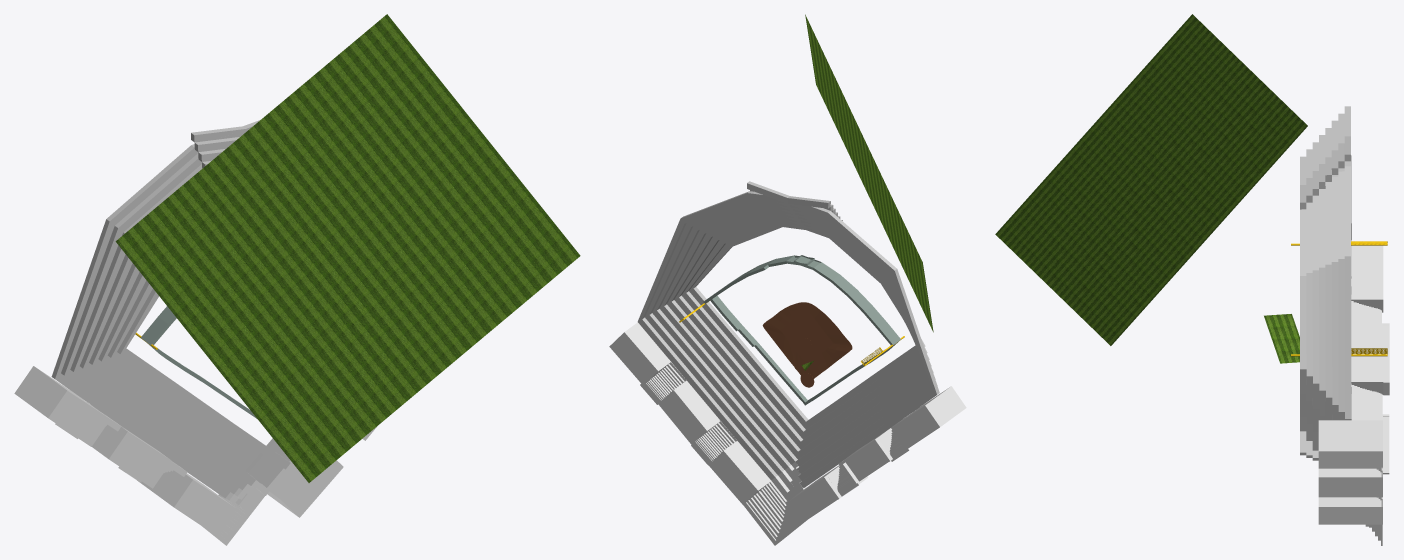
Rendered from stadium.fbx.
3 renders of one model, left to right at view 1: azimuth 30°, elevation 25°; view 2: azimuth 150°, elevation 25°; view 3: azimuth 270°, elevation 25°, orthographic. The views are drawn at different scales.
Visible parts, largest first — view 1: Grass, Stands, Cube, Cube.002, Cube.001, Cube.005, Cube.010, Walls; view 2: Stands, Grass, Plane.002, Walls, Cube.010, Cube, Cube.005, Cube.007, Cube.009, Cube.002, Cube.001, Cube.006 (+1 smaller); view 3: Grass, Stands, Cube.009, Cube.001, Cube, Cube.007, Cube.005, Cube.011, Cube.003, Cube.004.
Boxes of the visible parts, bbox=[...] form: Grass: bbox=[115, 14, 580, 482]; Stands: bbox=[51, 120, 290, 498]; Cube: bbox=[14, 366, 110, 446]; Cube.002: bbox=[141, 470, 236, 536]; Cube.001: bbox=[92, 407, 171, 488]; Cube.005: bbox=[267, 460, 343, 517]; Cube.010: bbox=[202, 480, 269, 545]; Walls: bbox=[141, 306, 257, 419]; Stands: bbox=[637, 181, 939, 487]; Grass: bbox=[805, 14, 933, 332]; Plane.002: bbox=[762, 302, 852, 378]; Walls: bbox=[703, 255, 900, 405]; Cube.010: bbox=[743, 462, 806, 545]; Cube: bbox=[891, 386, 966, 449]; Cube.005: bbox=[708, 441, 771, 504]; Cube.007: bbox=[658, 380, 719, 444]; Cube.009: bbox=[609, 322, 670, 385]; Cube.002: bbox=[792, 465, 867, 519]; Cube.001: bbox=[844, 428, 892, 481]; Cube.006: bbox=[691, 420, 737, 465]; Grass: bbox=[995, 14, 1307, 345]; Stands: bbox=[1300, 106, 1351, 460]; Cube.009: bbox=[1318, 420, 1382, 468]; Cube.001: bbox=[1351, 323, 1383, 394]; Cube: bbox=[1351, 245, 1383, 312]; Cube.007: bbox=[1318, 468, 1382, 497]; Cube.005: bbox=[1318, 497, 1382, 524]; Cube.011: bbox=[1264, 314, 1299, 363]; Cube.003: bbox=[1351, 384, 1382, 414]; Cube.004: bbox=[1351, 301, 1381, 323].
Size of the model in its own units: 1441 by 1924 by 1227.
